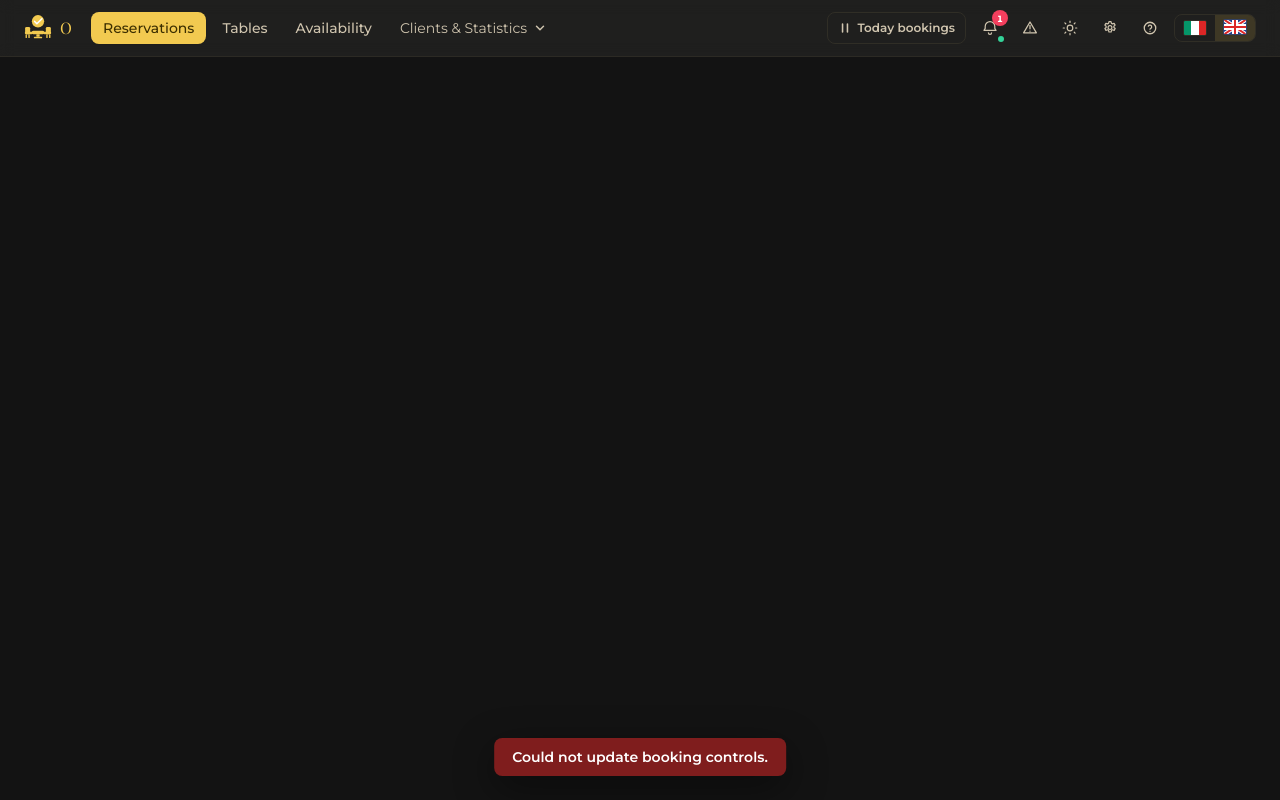
Test: AdminShell › shows resolved service labels instead of generated service ids in notifications
The image size is (1280, 800).
Click the button named "notifications" at [990, 28], box [974, 12, 1006, 44]
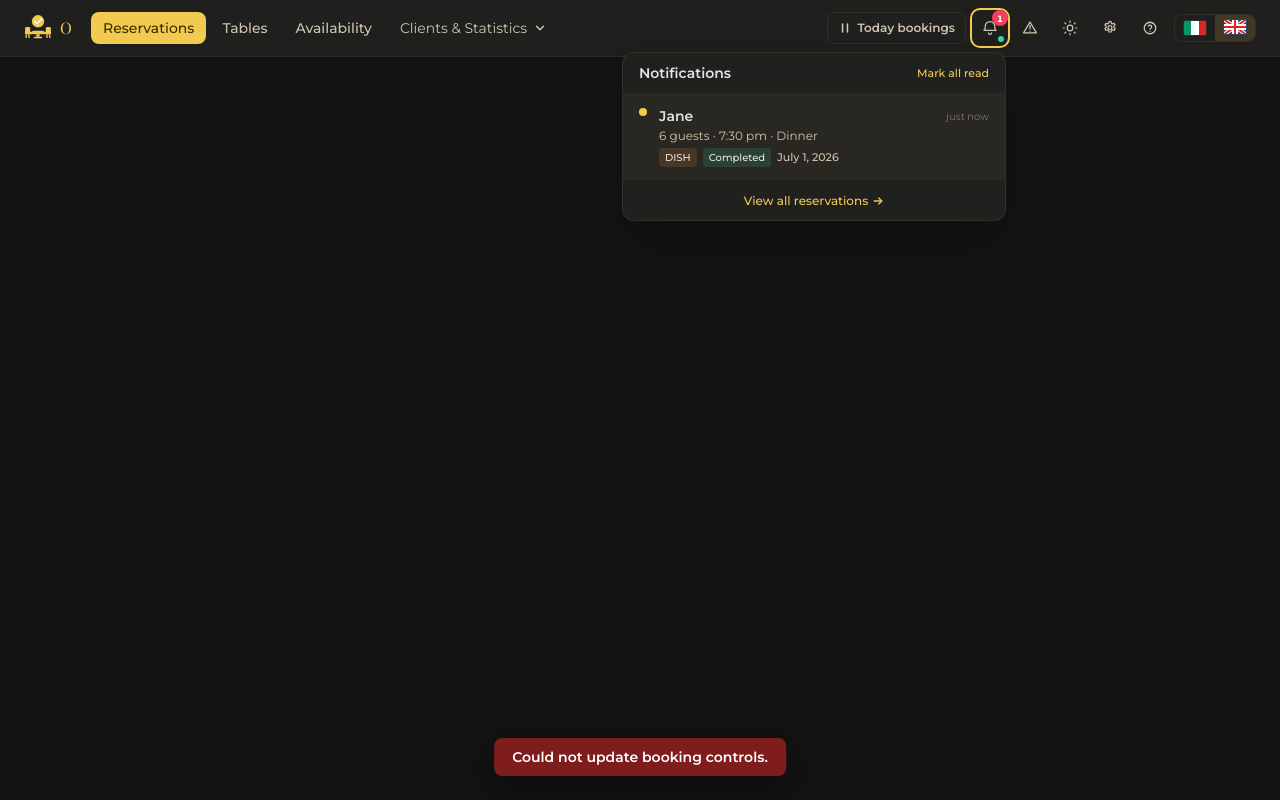
Result: the text "6 guests · 7:30 pm · Dinner" is shown at [659, 128, 818, 143]
